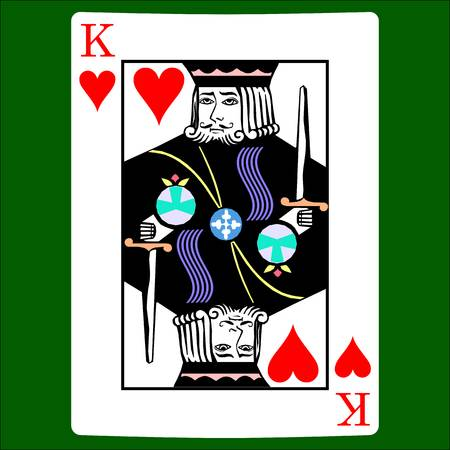king of hearts: (73, 12, 377, 437)
